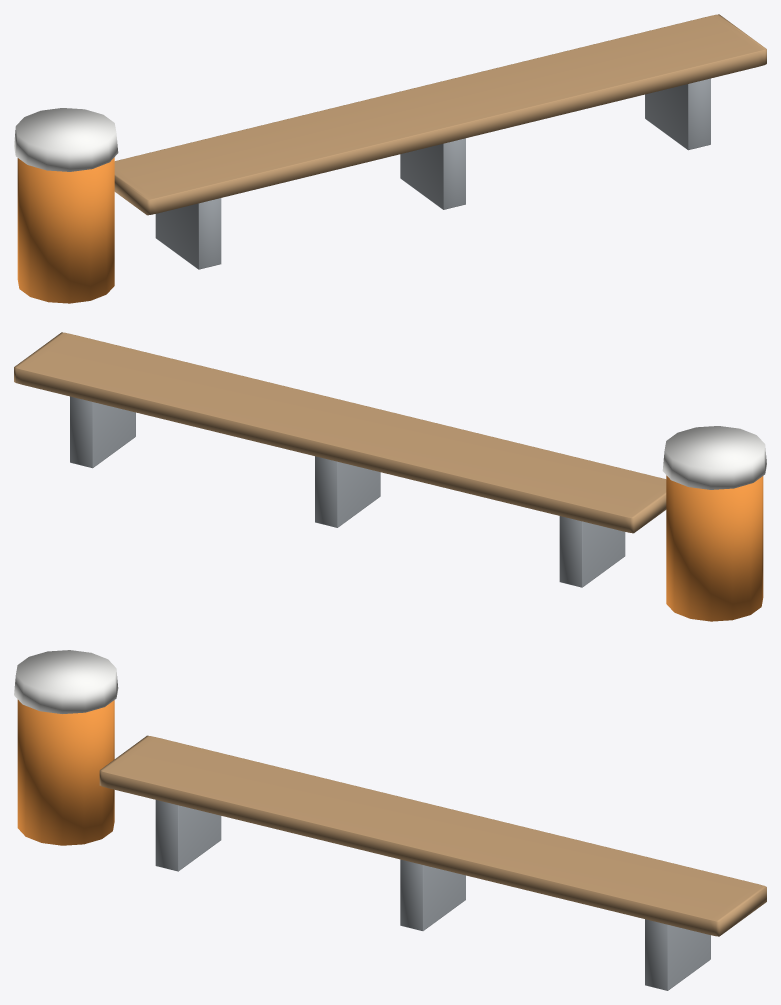
Rendered from SM_Gym_TeamBench.fbx.
3 renders of one model, top to bottom at view 1: azimuth 30°, elevation 25°; view 2: azimuth 150°, elevation 25°; view 3: azimuth 330°, elevation 25°, orthographic.
Parts seen in each view (by area): view 1: SM_Gym_TeamBench; view 2: SM_Gym_TeamBench; view 3: SM_Gym_TeamBench.
Part boxes in pixels (x1,y1,x2,y2): SM_Gym_TeamBench: (14, 14, 766, 303); SM_Gym_TeamBench: (14, 332, 766, 621); SM_Gym_TeamBench: (14, 650, 766, 990).
Size of the model in its own units: 4.42 by 0.9 by 0.56.
